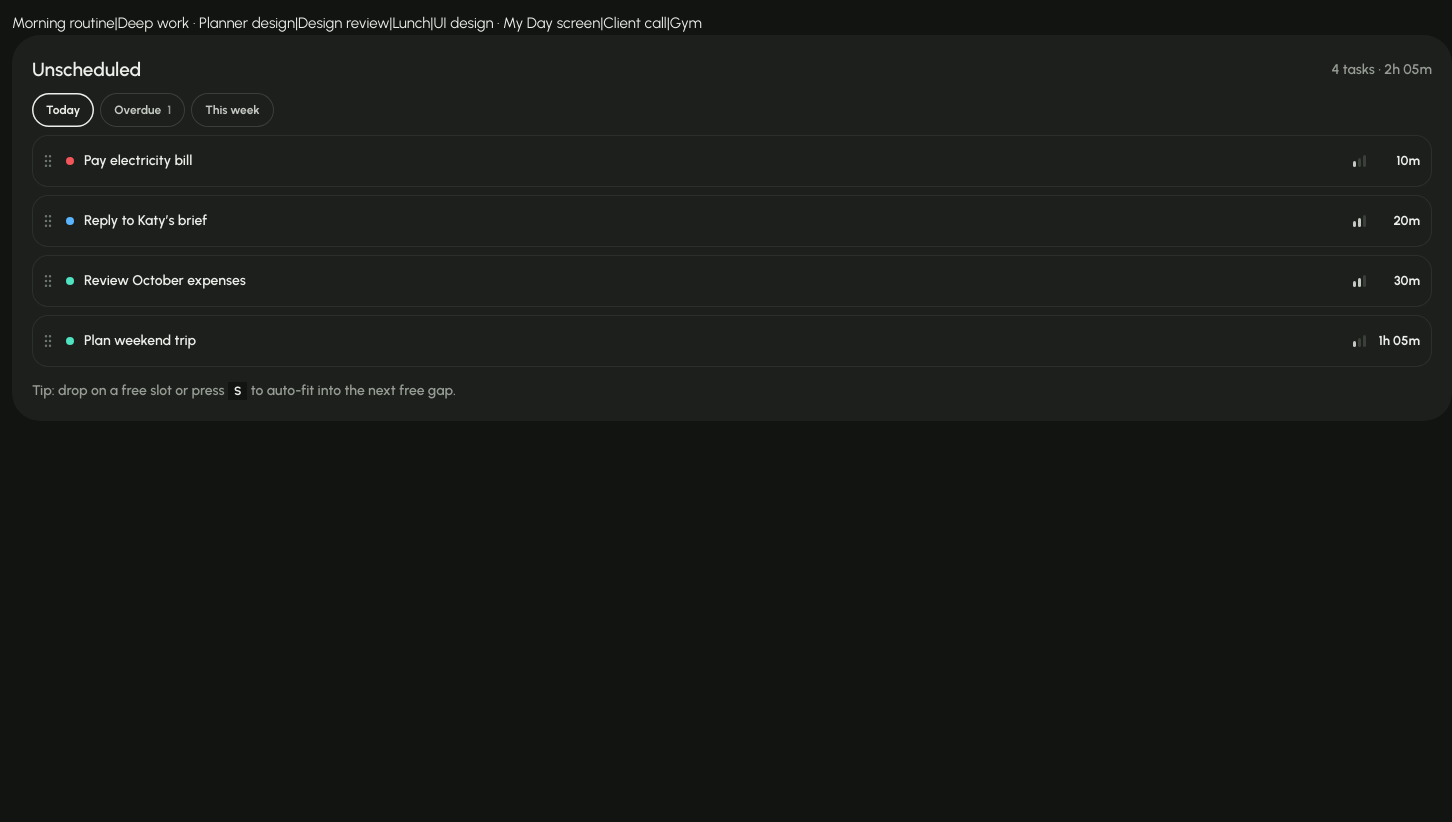
UnscheduledCard › S auto-fits the selected row into the next free gap, with Undo
This screenshot has width=1452, height=822.
Click the text "Review October expenses".
click(165, 281)  # box [84, 271, 246, 291]
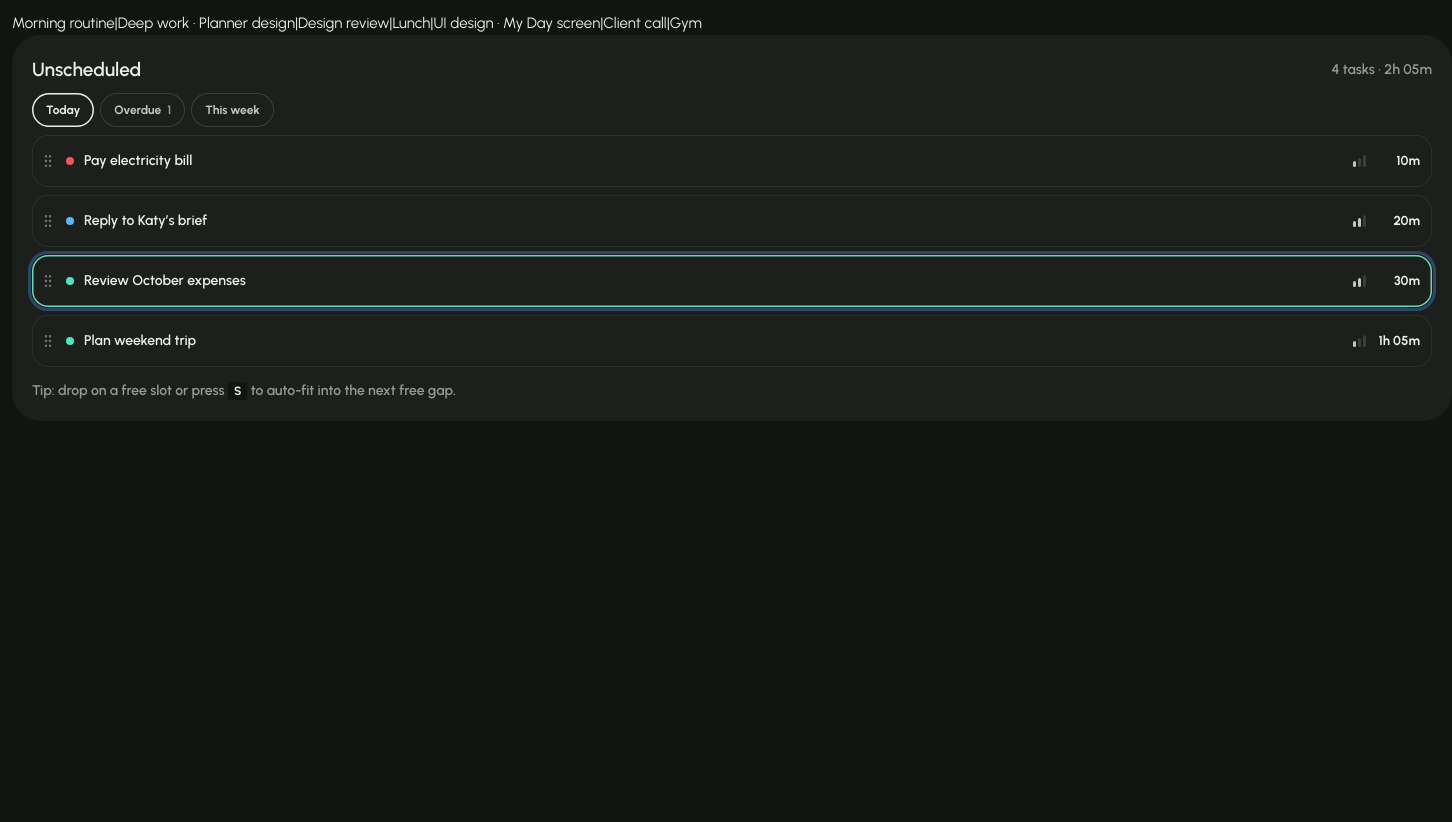
Type keys "s"
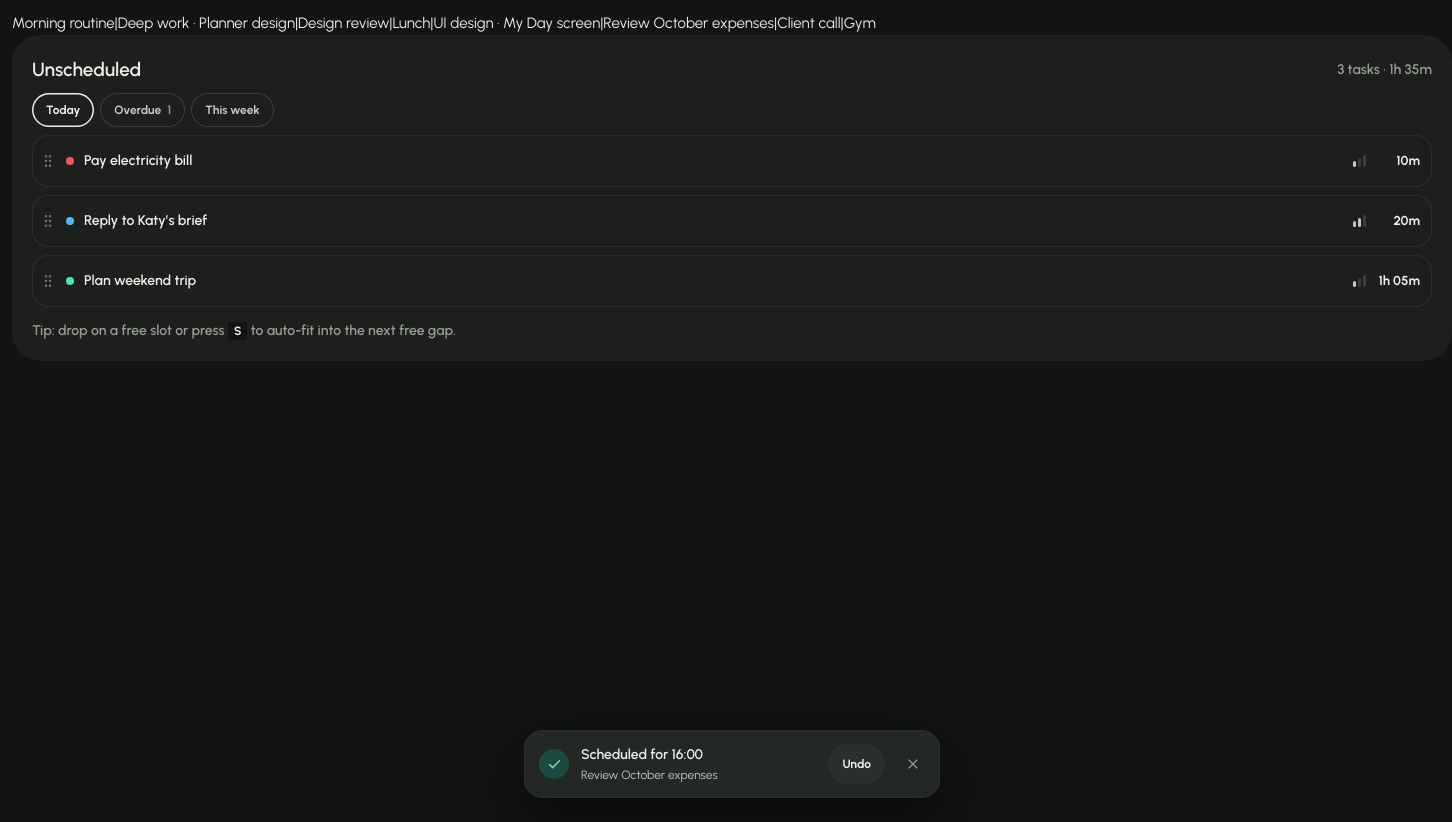
Check: the text "Scheduled for 16:00" is shown, box [581, 746, 703, 763]
Check: the text with test id "titles" shows "Review October expenses", box [12, 14, 876, 32]
Click the button "Undo".
click(857, 764)  # box [828, 744, 885, 784]
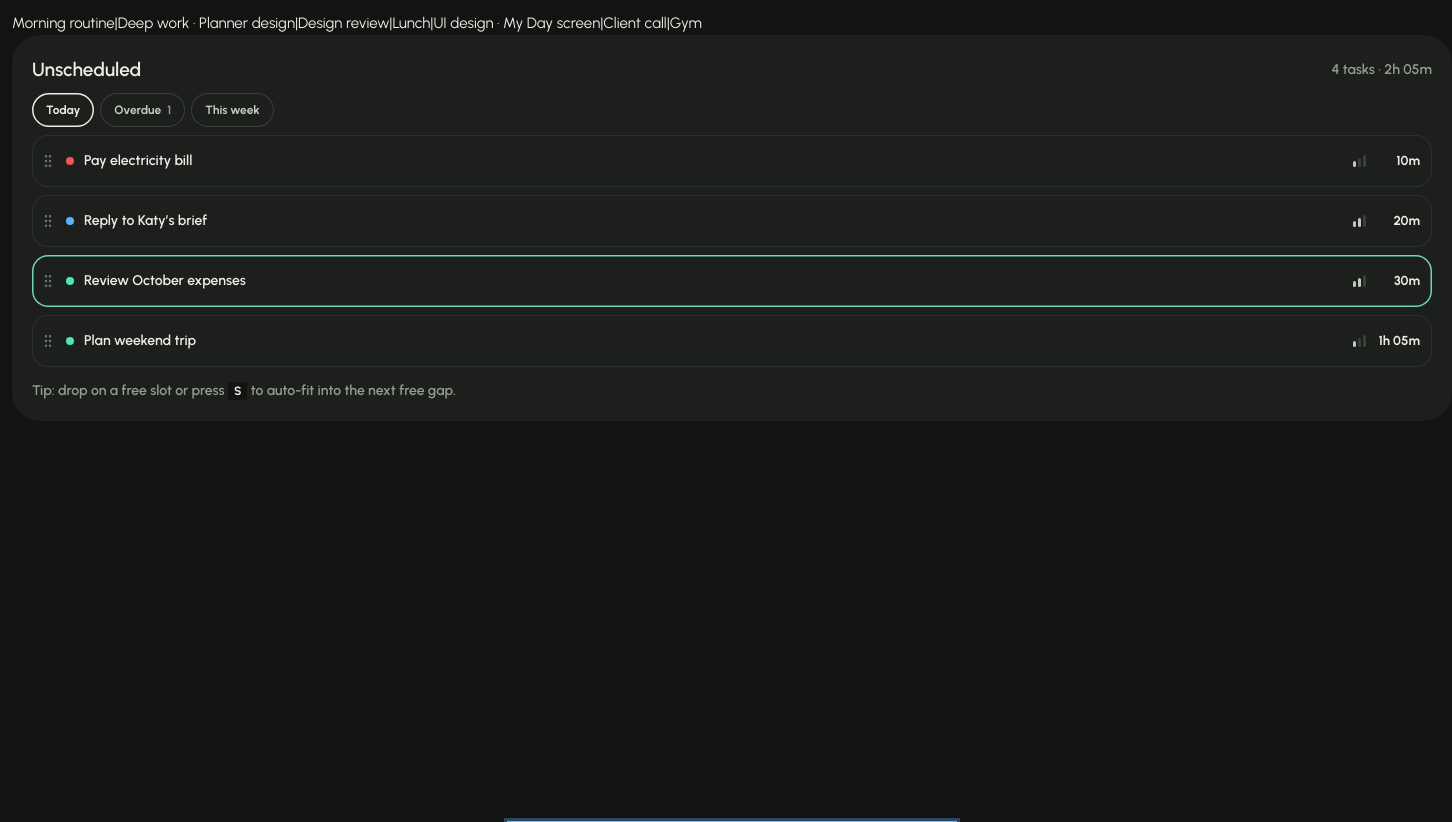
Check: the element with test id "titles" no longer shows "Review October expenses"
